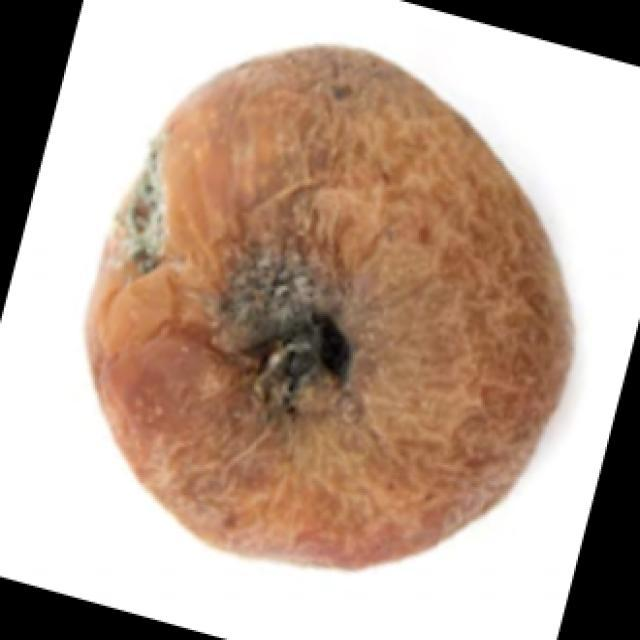Rotten: (101, 55, 556, 545)
